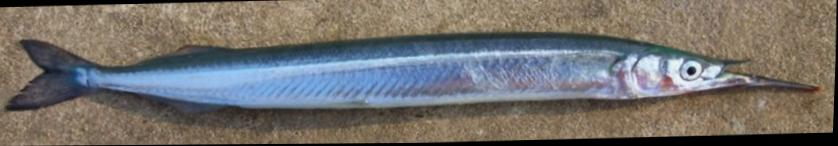fish: (6, 34, 820, 116)
